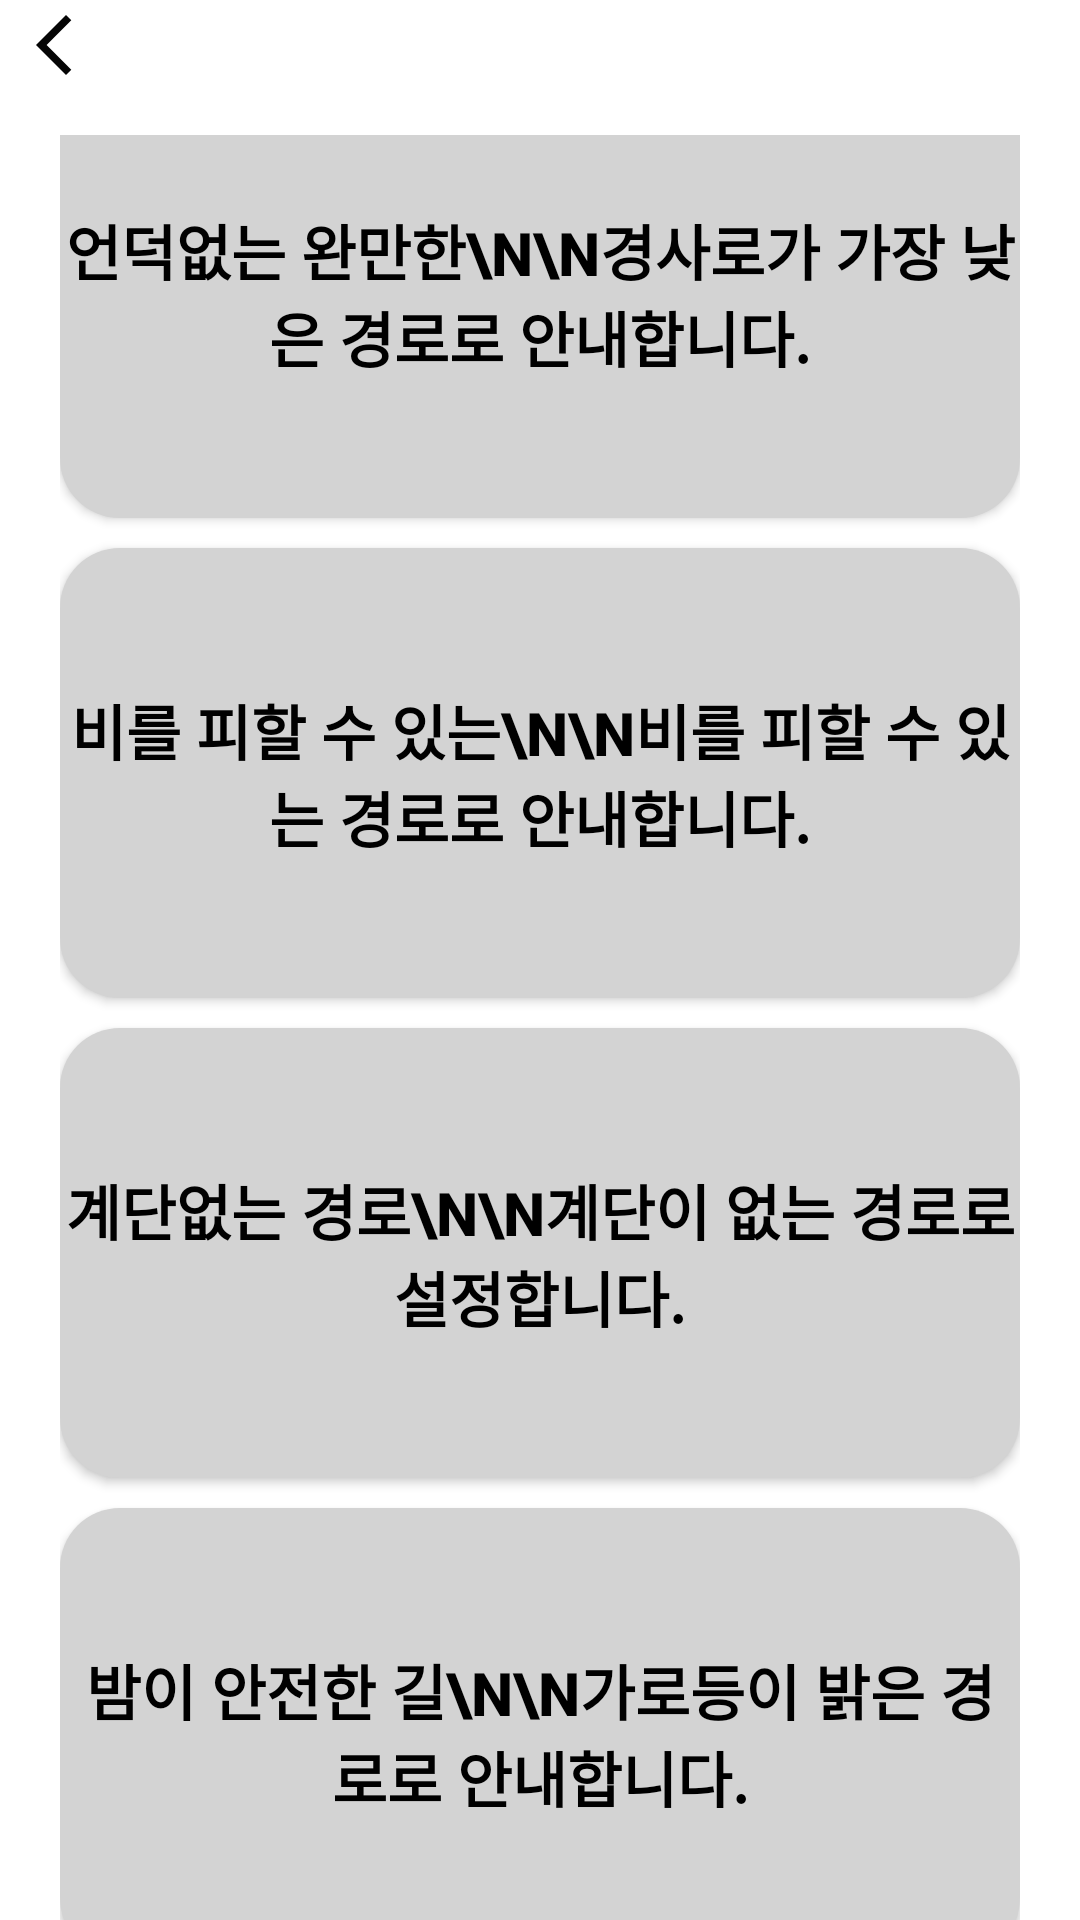

Screen size 1080x1920. Icon name, then its center in pixels as point (x, y):
arrow back: point (53, 45)
